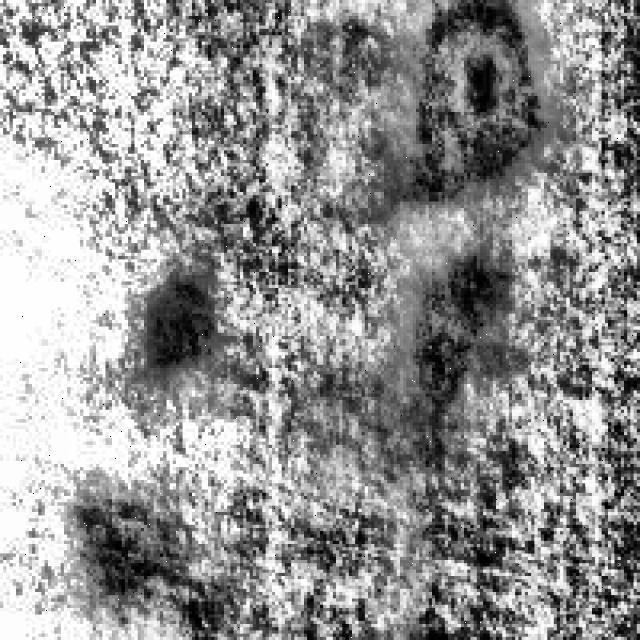Scratches: (410, 0, 554, 198), (406, 246, 512, 444), (144, 268, 218, 374)
